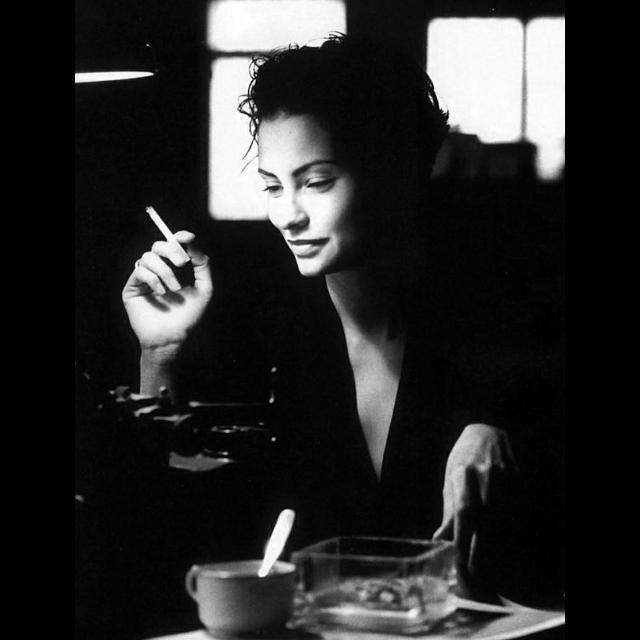rokok: (146, 207, 186, 256)
